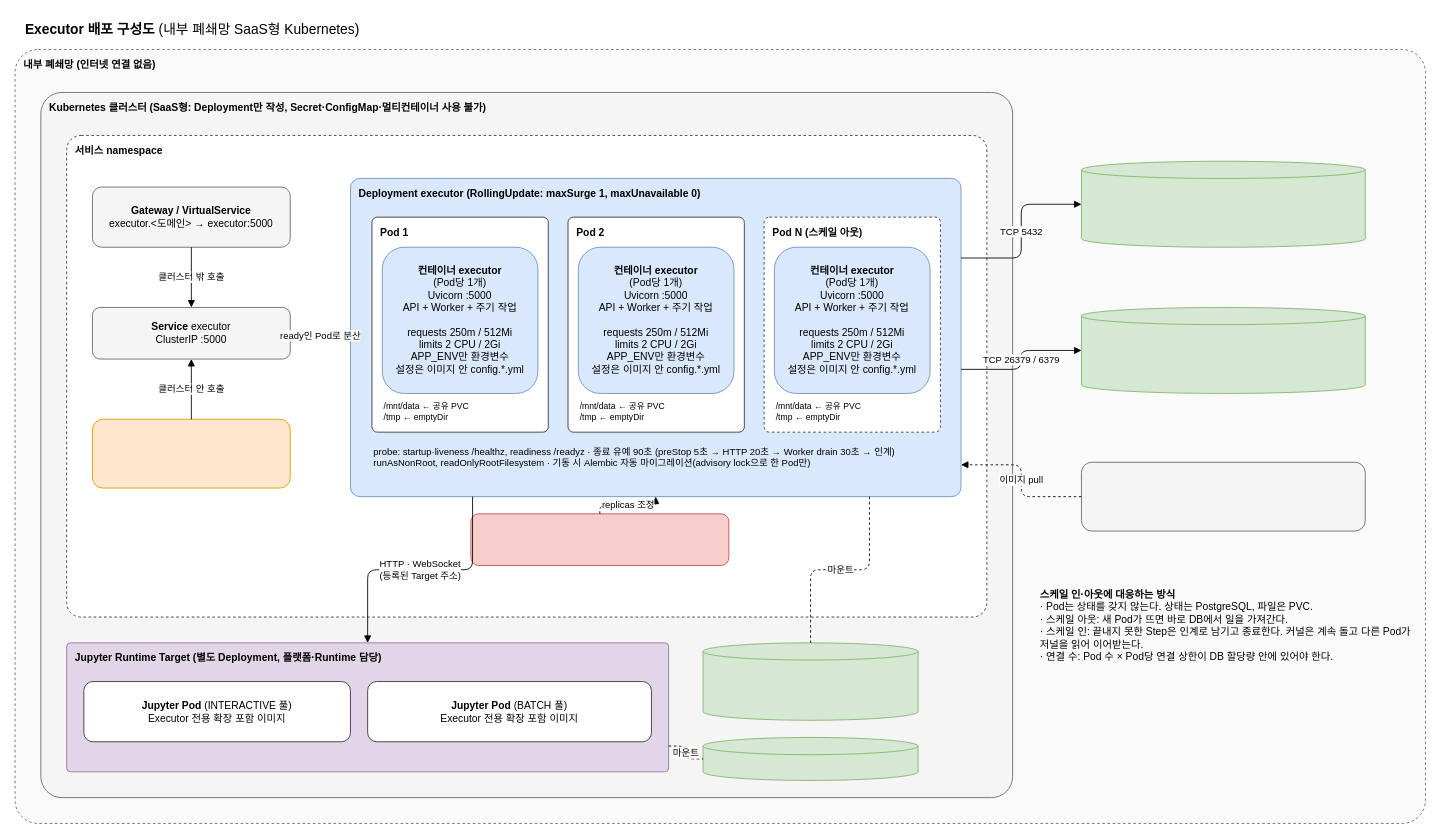
This 1441x839 diagram has some shape labels left out. Here are the shapes that lost their labels. From the top down, the centre of each, then its label:
At (x=1223, y=203): "PostgreSQL (공용 DB, max_connections 100) Pod당 연결 상한은 설정값 (기본 16)".
At (x=1223, y=350): "Redis 8 Sentinel (prd) dev·stg는 standalone 비밀번호는 사내 AES 암호문".
At (x=191, y=453): "호출자 Pod gaia-api-service · batch http://executor:5000".
At (x=1223, y=496): "사내 이미지 레지스트리 환경별 이미지 (APP_ENV=dev/stg/prd) 불변 태그".
At (x=599, y=539): "HPA (플랫폼 자동 적용) CPU 사용률 기준으로 replicas 조정".
At (x=810, y=681): "공유 PVC (RWX) executor-shared-pvc 호출자와 같은 경로에 마운트".
At (x=810, y=758): "Jupyter PV".
